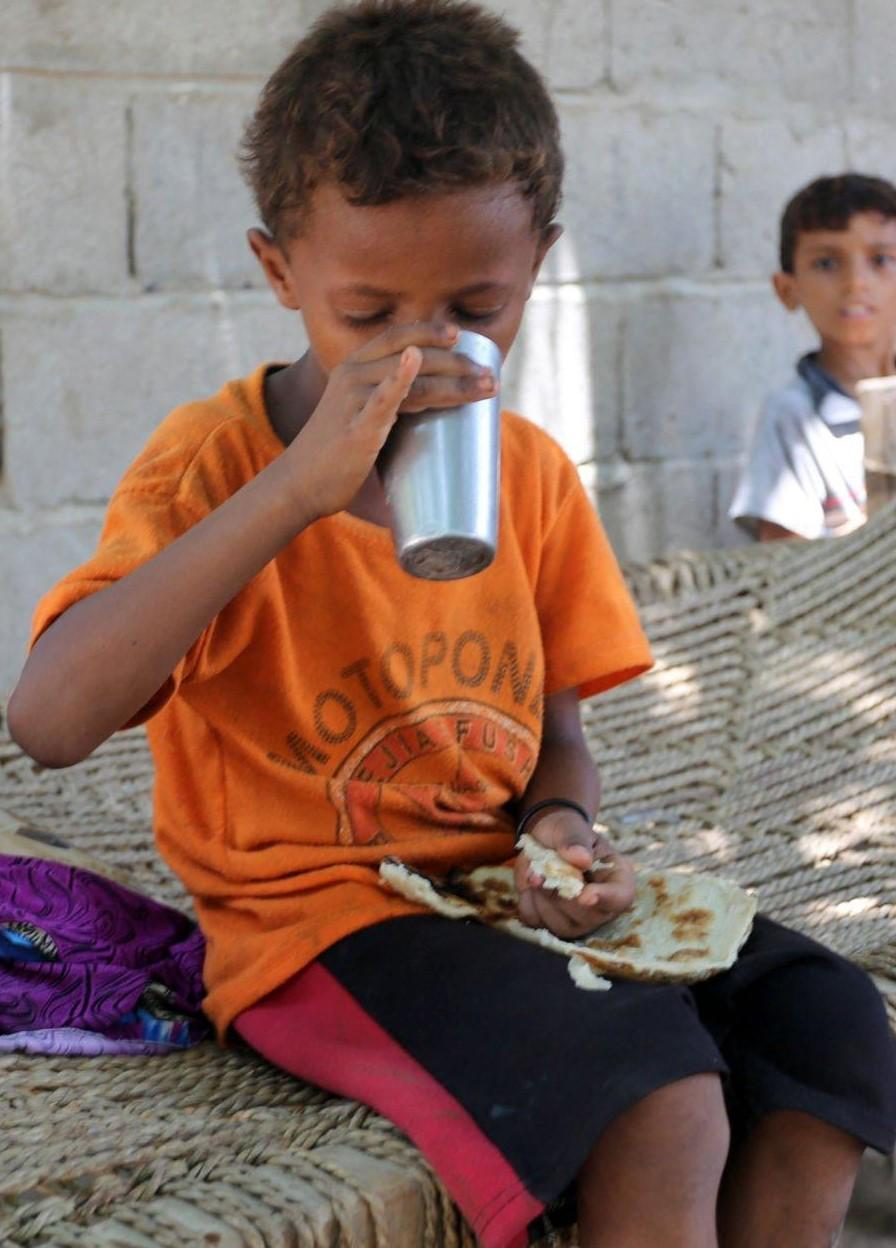Stunting: (187, 0, 673, 493)
